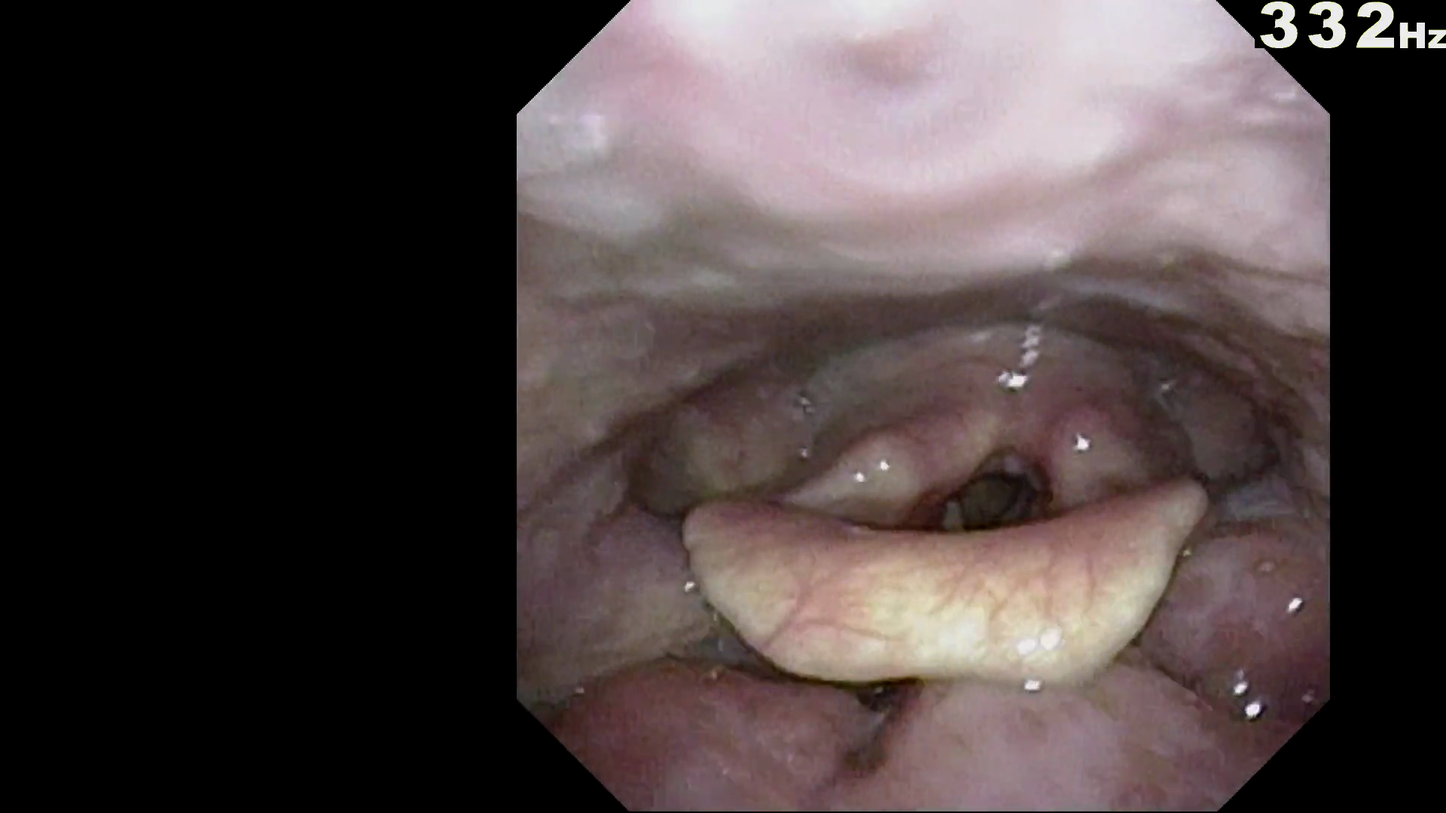epiglottis: (681, 497, 1223, 682)
trachea: (933, 445, 1051, 563)
